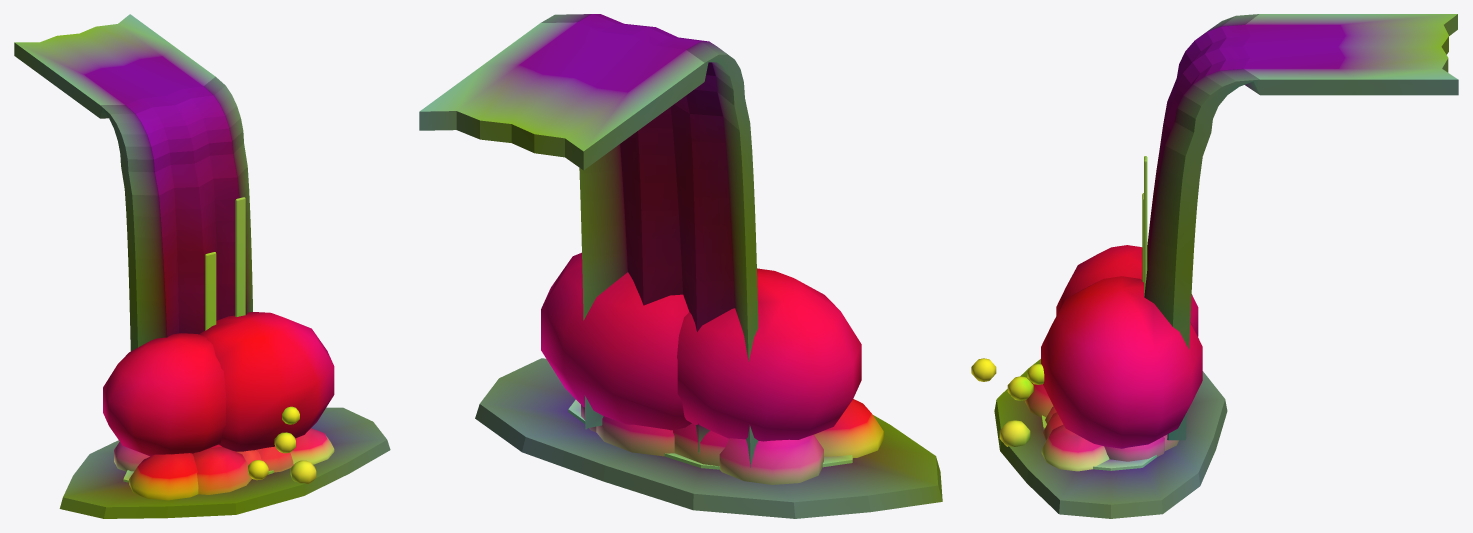
File: Waterfall_Small.fbx
3 renders of one model, left to right at view 1: azimuth 30°, elevation 25°; view 2: azimuth 150°, elevation 25°; view 3: azimuth 270°, elevation 25°, orthographic. The views are drawn at different scales.
Visible parts, largest first — view 1: Waterfall_Small; view 2: Waterfall_Small; view 3: Waterfall_Small.
Boxes of the visible parts, <box> form: Waterfall_Small: <box>14,14,390,518</box>; Waterfall_Small: <box>419,14,942,518</box>; Waterfall_Small: <box>971,14,1458,518</box>.
Size of the model in its own units: 2.46 by 2.46 by 2.82.
